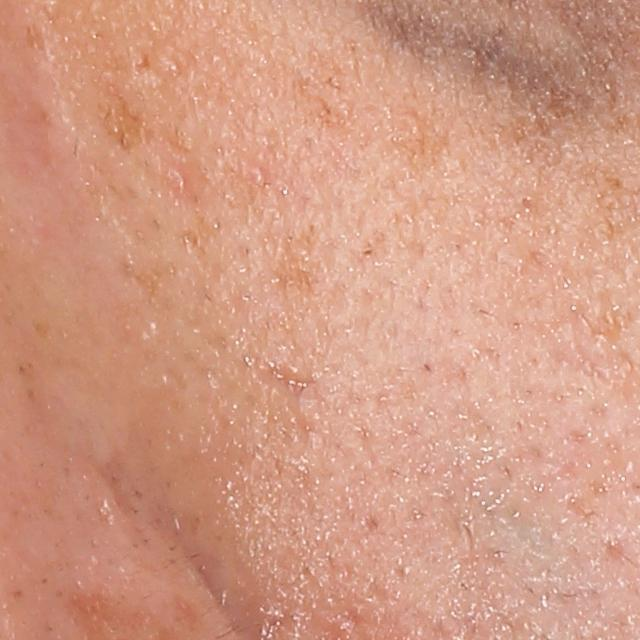melasma: (259, 31, 455, 187), (256, 217, 334, 316), (89, 78, 160, 169), (112, 248, 184, 302), (170, 209, 236, 266), (578, 281, 625, 349)
